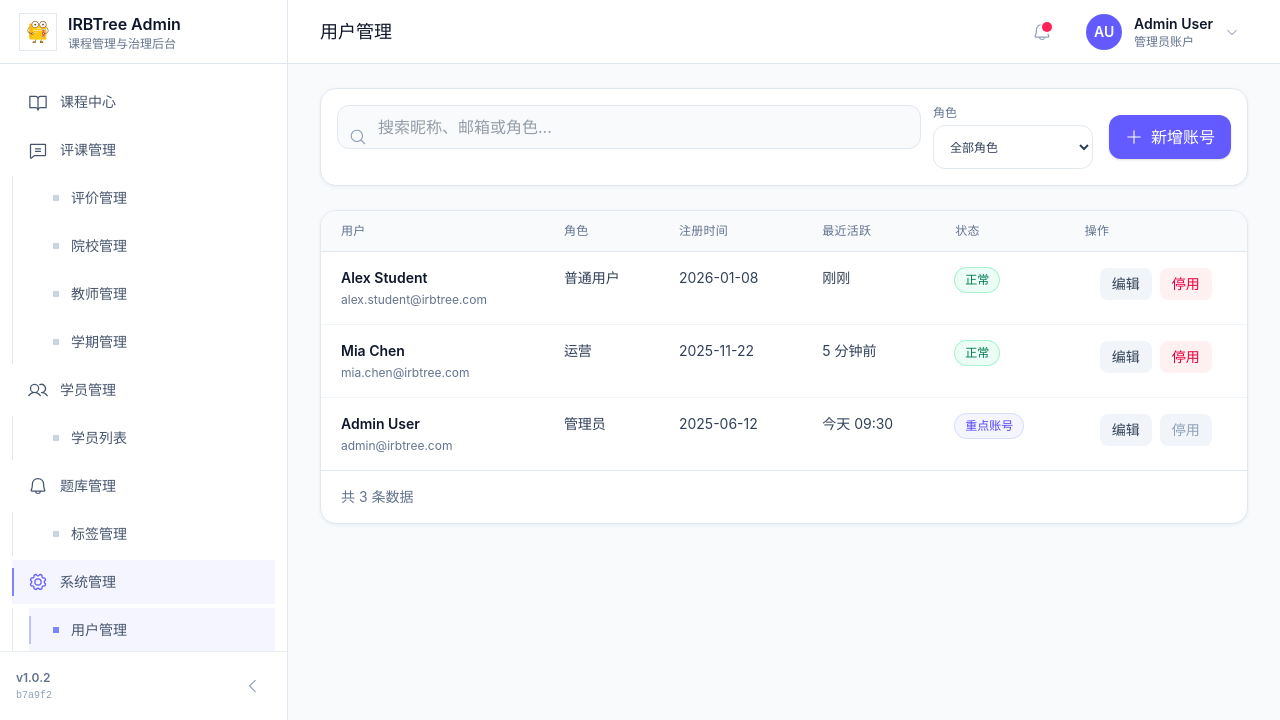
Test case: Admin page behaviors › does not append duplicate notifications or logs when disabling an already disabled account
The width and height of the screenshot is (1280, 720).
What coordinates should you click on to do the following:
click the button "停用" in the row of "Alex Student"
I would click on:
 (1186, 284)
Its box is [1160, 268, 1212, 300].
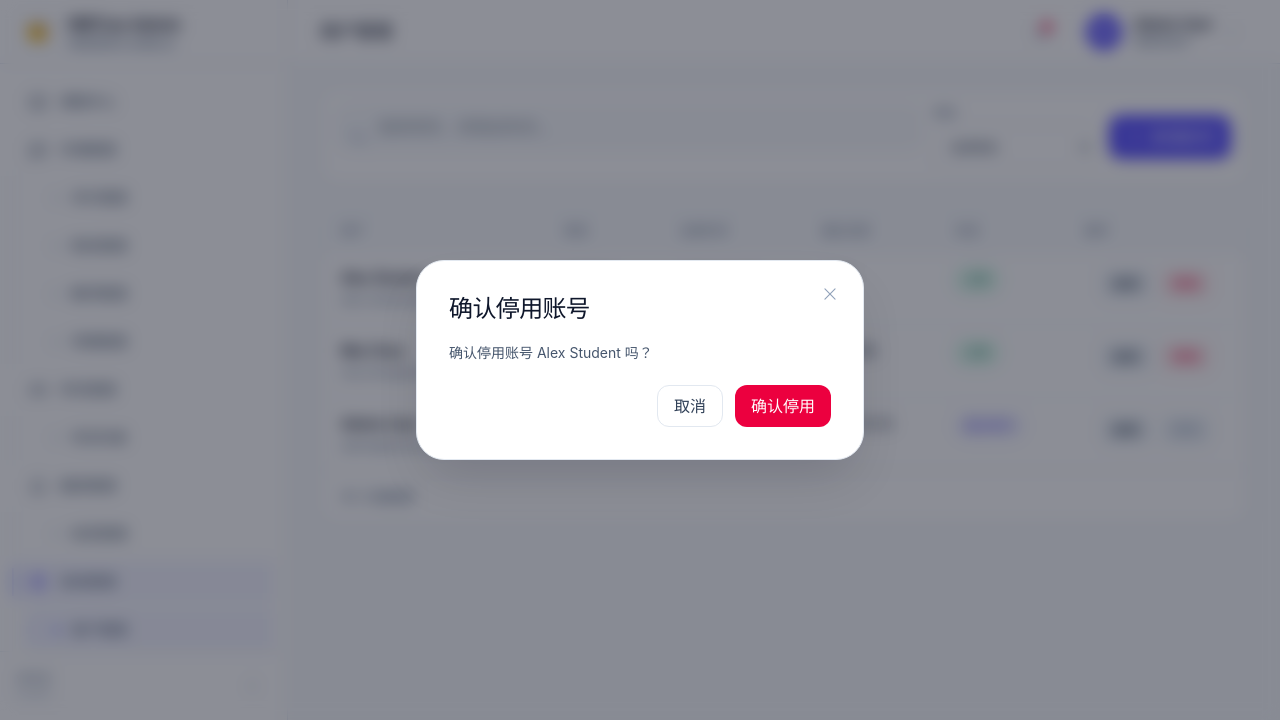
What coordinates should you click on to do the following:
click the button "确认停用"
I would click on:
 (783, 406)
Its box is [735, 385, 831, 427].
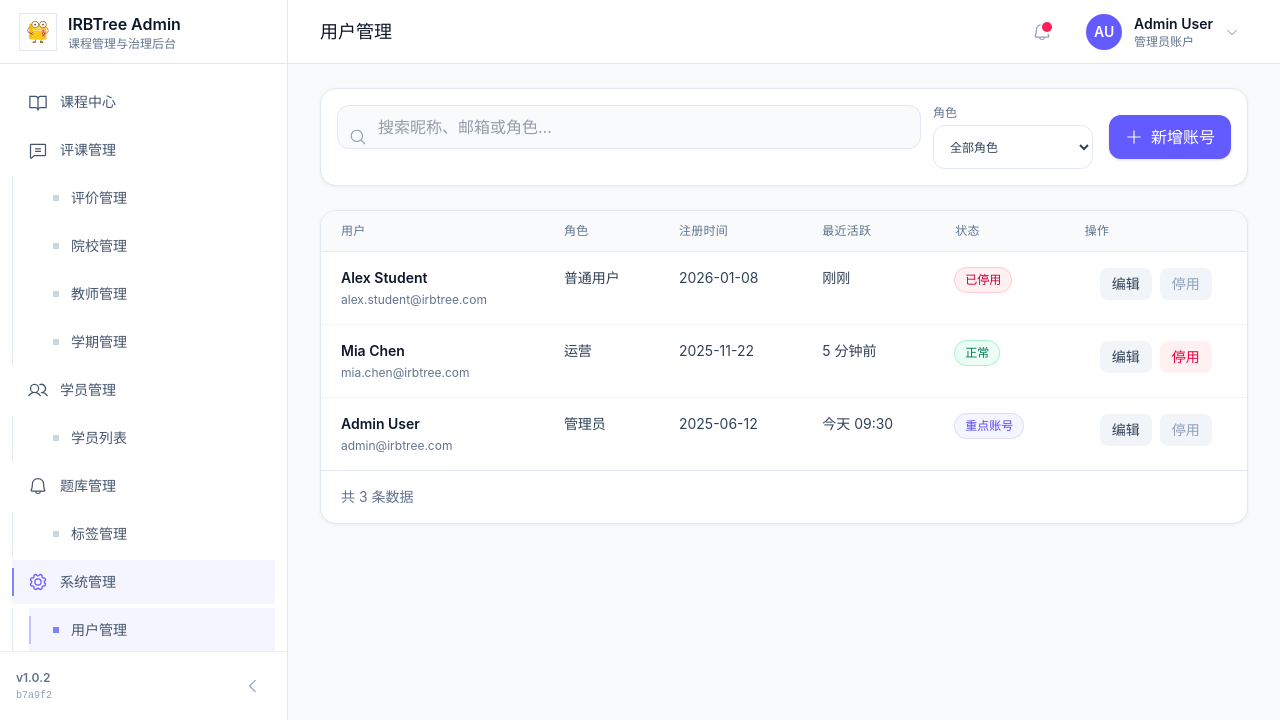
Check: the text "已停用" is shown, box [955, 268, 1011, 292]
Check: the button "停用" in the row of "Alex Student" is disabled, box [1160, 268, 1212, 300]
What coordinates should you click on to do the following:
click the button named "通知"
I would click on:
 (1042, 32)
Its box is [1023, 12, 1061, 50].
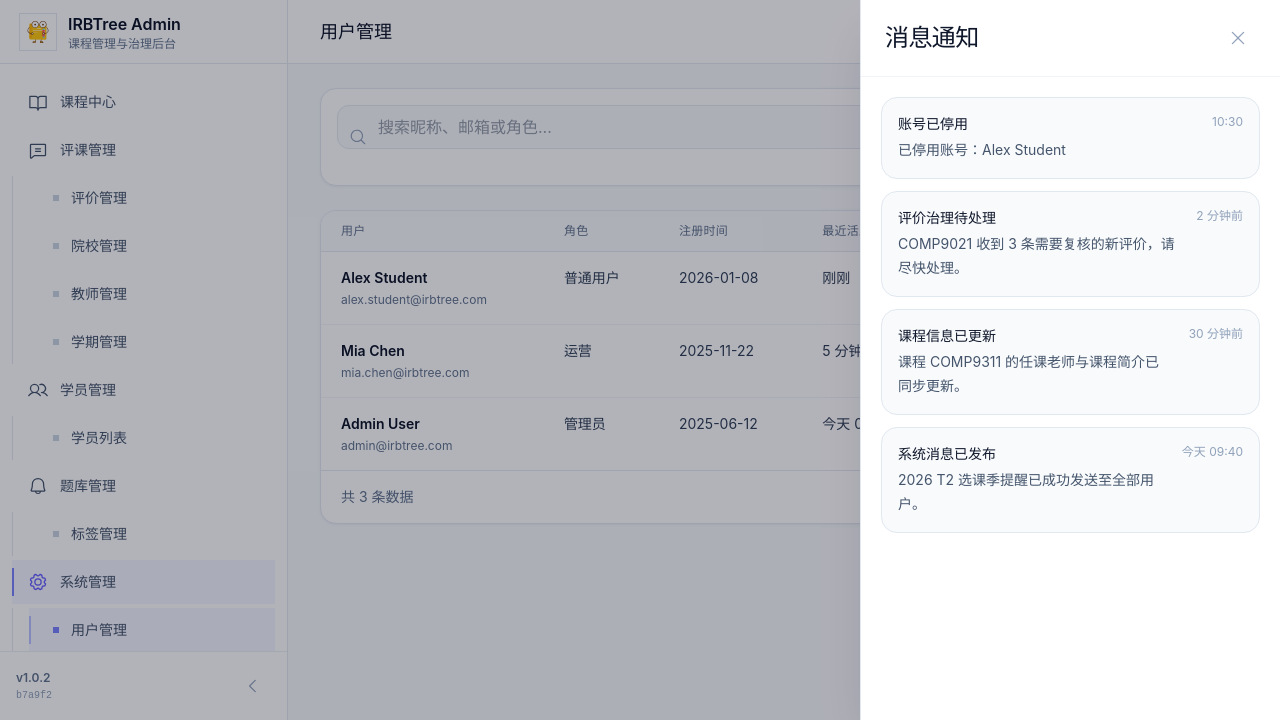
Check: the text "已停用账号：Alex Student" is shown once, box [898, 138, 1066, 162]
